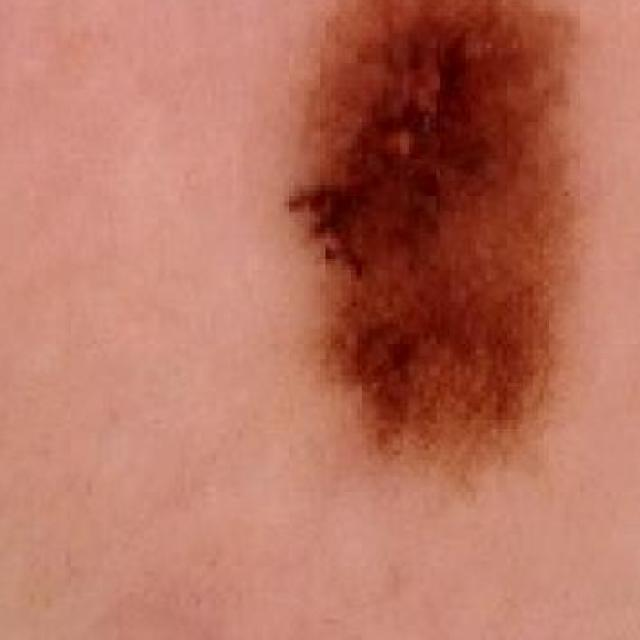MEL: (275, 0, 620, 470)
